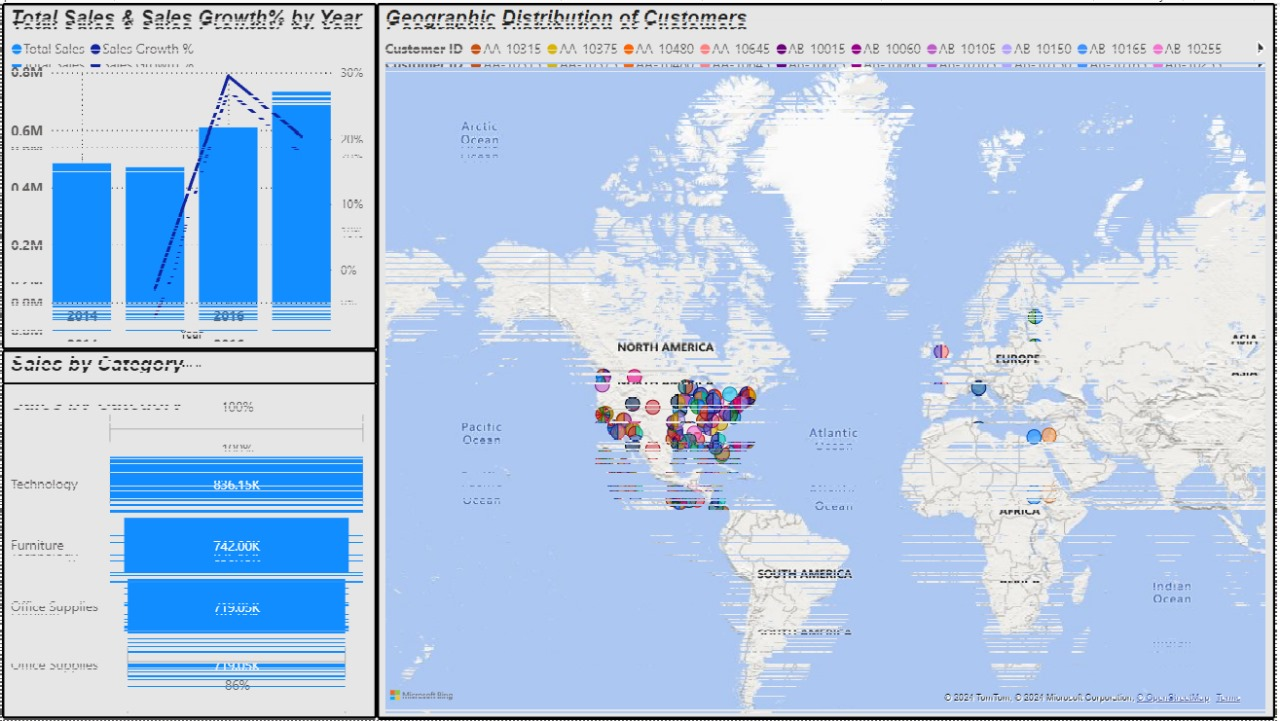

Layout of this report page (visuals, bound fields, positions):
{"tool":"powerbi","page":{"name":"Page 2","canvas":[1280,720],"ordinal":1},"visuals":[{"type":"map","title":"Geographic Distribution of Customers","fields":{"Category":["Orders.City"],"Series":["Orders.Customer ID"]},"box":[377.1,0,902.9,720],"z":0},{"type":"lineStackedColumnComboChart","title":"Total Sales & Sales Growth% by Year","fields":{"Category":["Orders.Order Date.Variation.Date Hierarchy.Year"],"Y":["Orders.Total Sales"],"Y2":["Orders.Sales Growth %"]},"box":[0,0,376.6,348.5],"z":1000},{"type":"funnel","title":"Sales by Category","fields":{"Category":["Orders.Category"],"Y":["Orders.Total Sales"]},"box":[0,349,377,371],"z":2000}]}

Visuals, with their boxes in screenshot pixels (x1, y1, x2, y2), scaled from the page's 1280x720 canvas onto the 1280x721 screenshot:
"Geographic Distribution of Customers" map: 377/0/1279/720
"Total Sales & Sales Growth% by Year" lineStackedColumnComboChart: 0/0/377/349
"Sales by Category" funnel: 0/349/377/720
